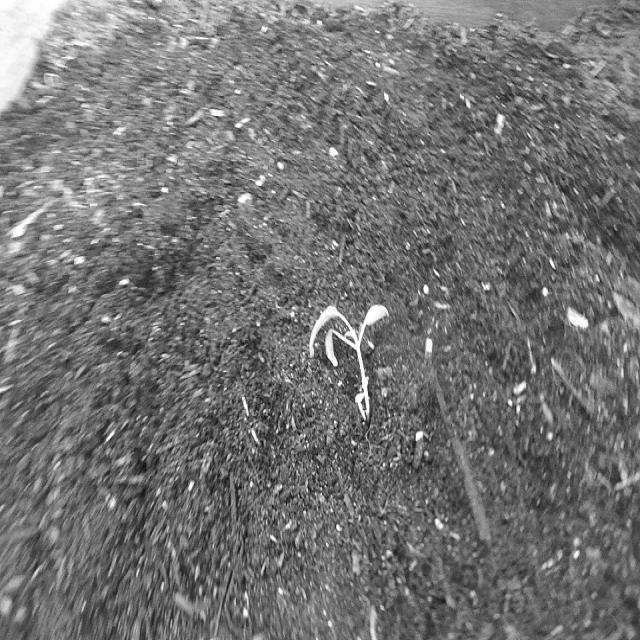Healthy: (306, 299, 394, 426)
